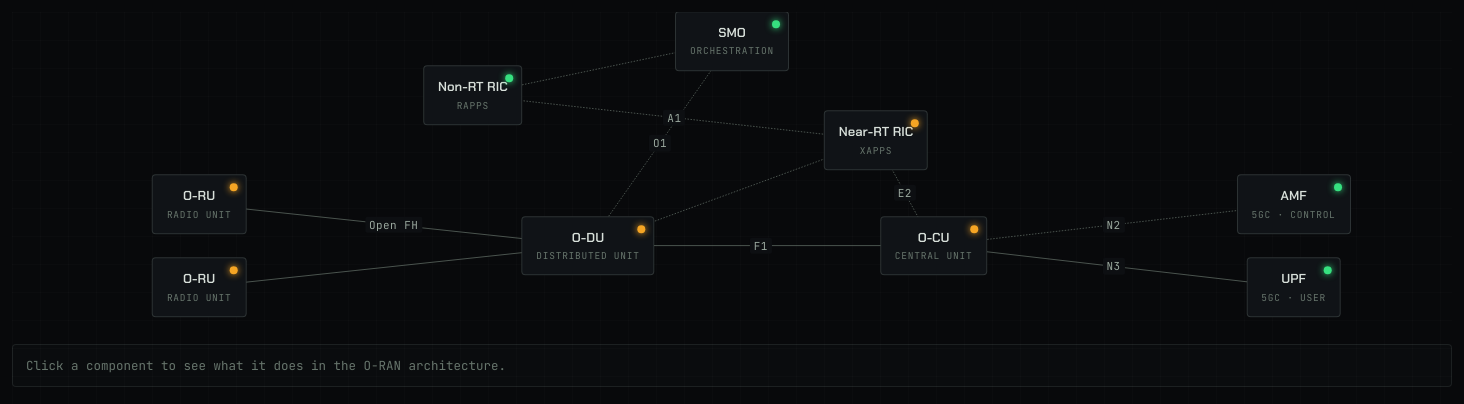
ui primitives › renders O-RAN topology and explains selected components
This screenshot has width=1464, height=404.
Expected: the text "Click a component" is shown, [26, 357, 506, 374]
Click the text "SMO": (732, 32) [718, 24, 746, 41]
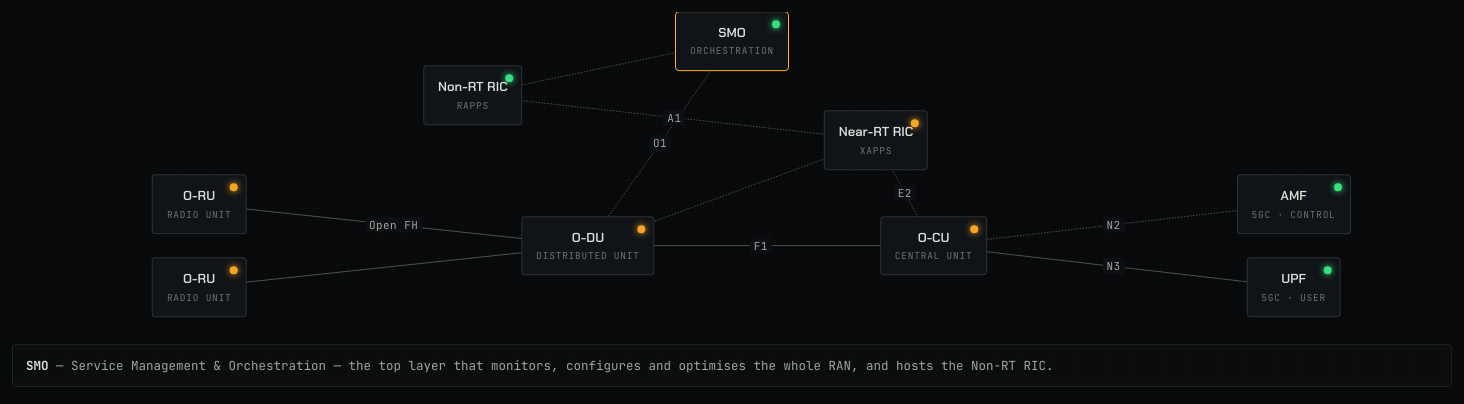
Expected: the text "Service Management" is shown, [71, 357, 1054, 374]
Click the text "Near-RT RIC": (876, 132) [839, 122, 913, 142]
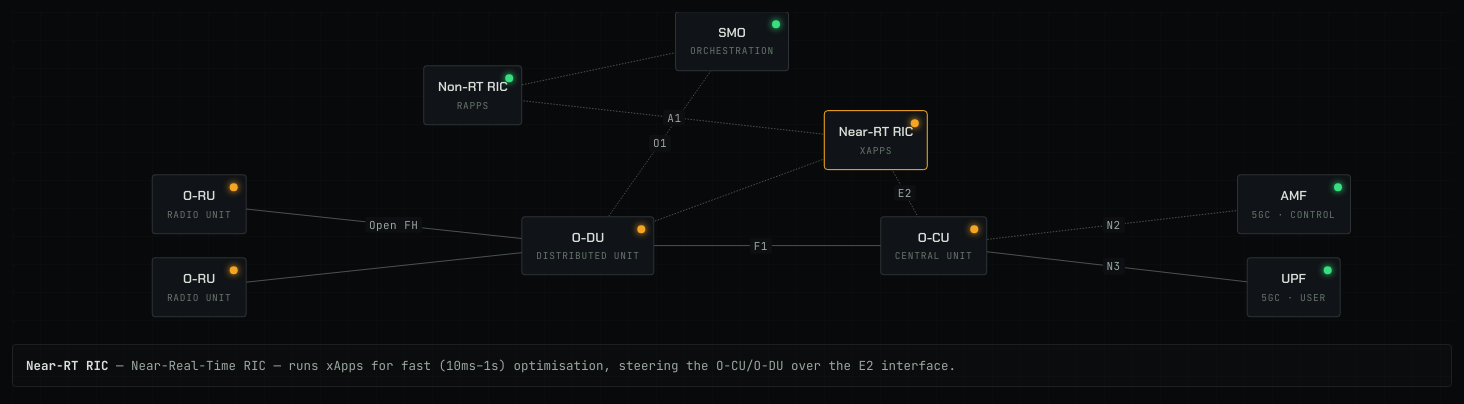
Expected: the text "fast (10ms" is shown, [131, 357, 956, 374]
